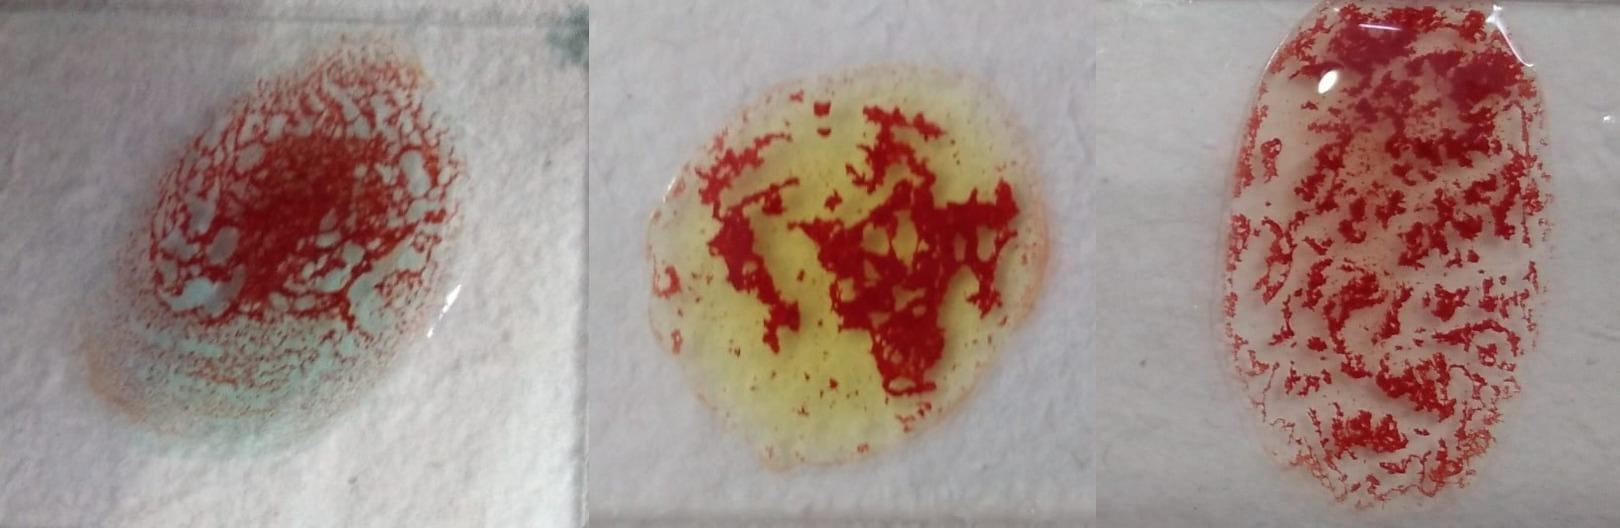A: (94, 45, 466, 452)
B: (659, 62, 1048, 489)
D: (1224, 0, 1561, 522)
